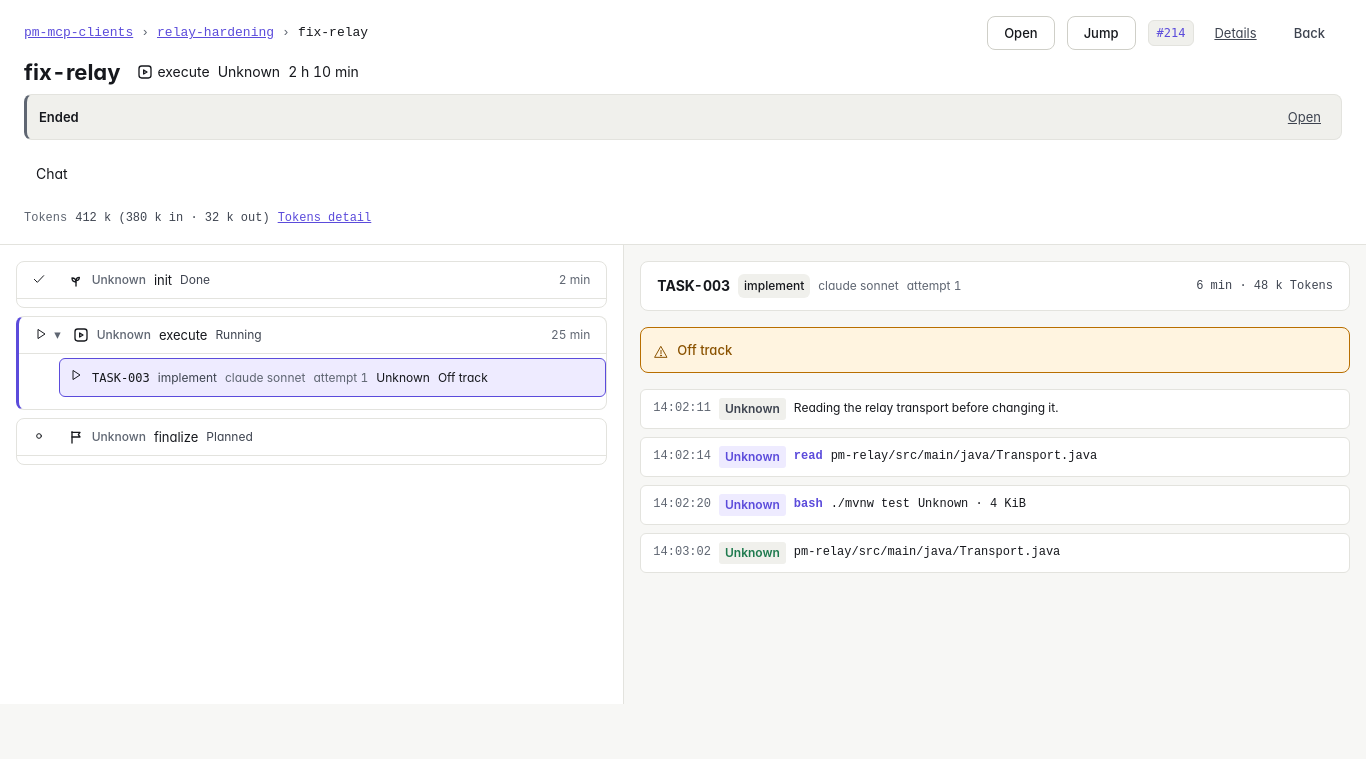
Test case: PlanView component › reads the token breakdown of an ended plan from its completion report
The width and height of the screenshot is (1366, 759).
expect the heading "fix-relay" is shown: met, box top-left (24, 62), bottom-right (120, 82)
What coordinates should you click on to do the following:
click the button with test id "tokens-toggle"
I would click on:
 (324, 218)
Its box is top-left (278, 208), bottom-right (371, 228).
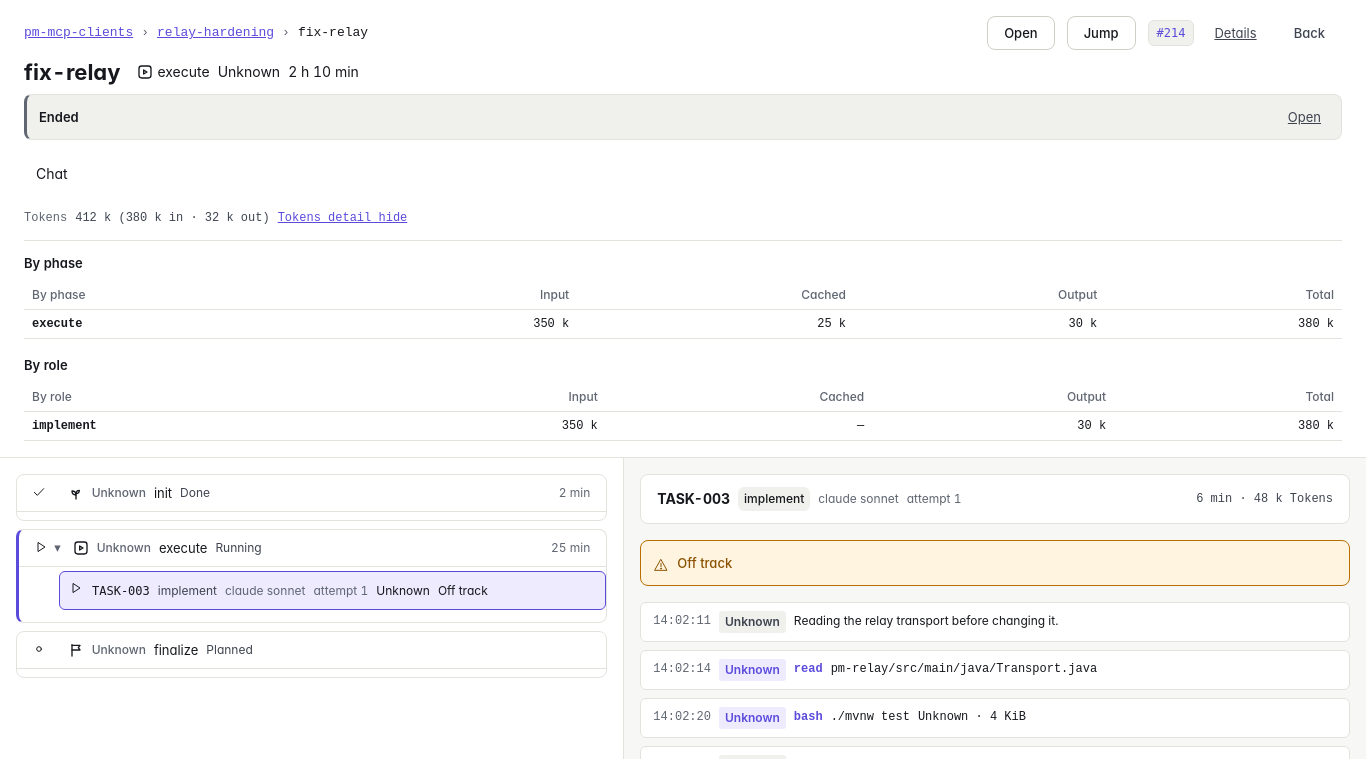
expect the row with test id "token-phase-execute" shows "25 k": met, box top-left (817, 317), bottom-right (846, 331)
expect the row with test id "token-role-implement" shows "380 k": met, box top-left (1298, 419), bottom-right (1334, 433)
